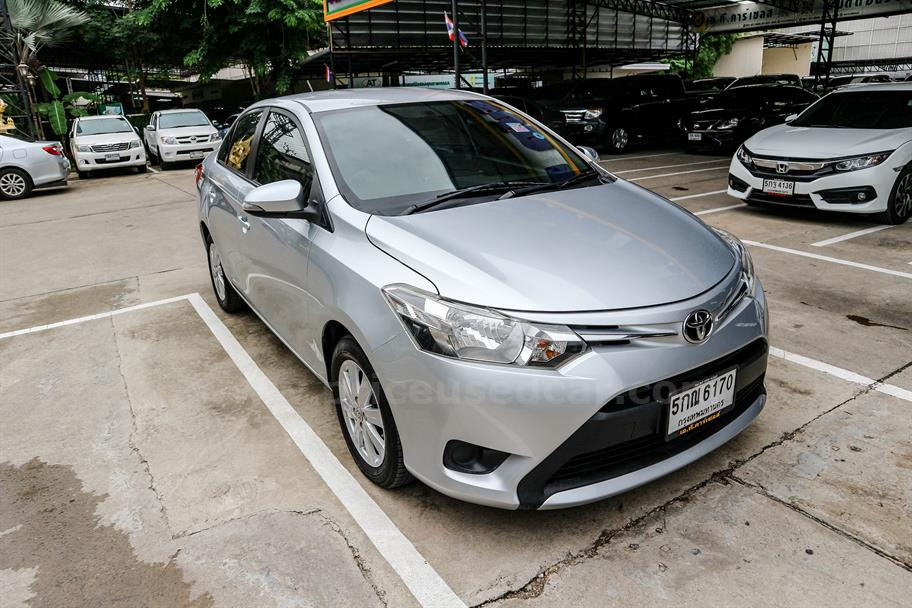sedan: (198, 83, 771, 513)
